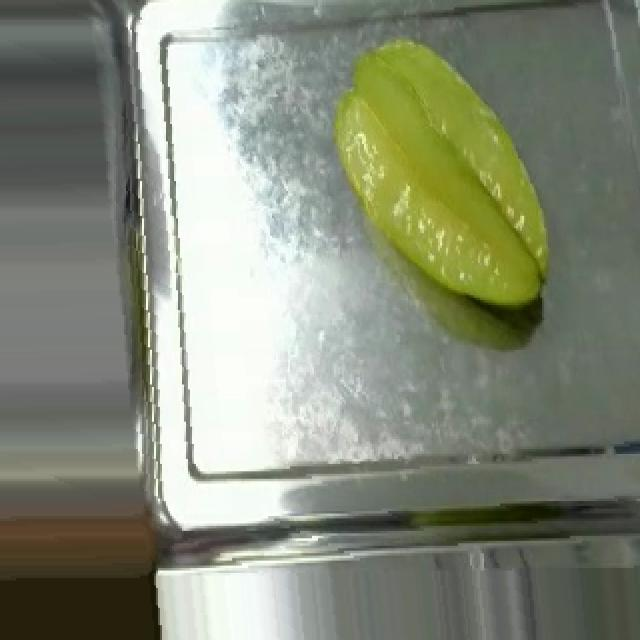fruit: (320, 15, 570, 330)
